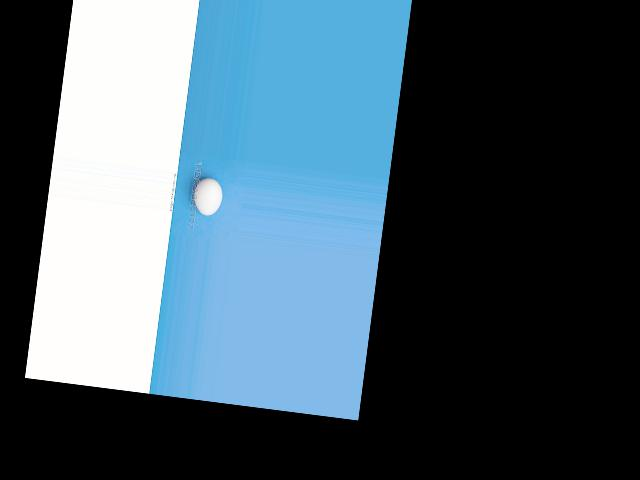egg: (190, 176, 223, 216)
